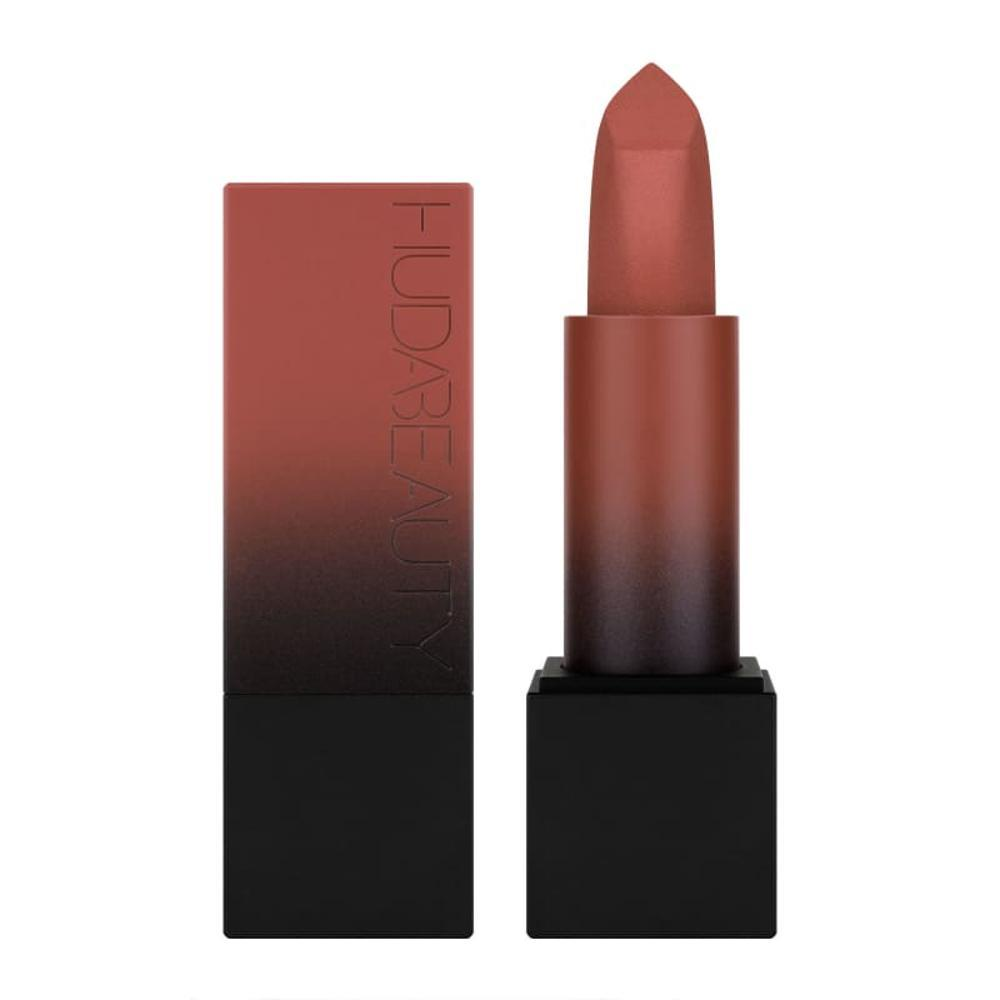lipstick: (531, 21, 776, 962)
